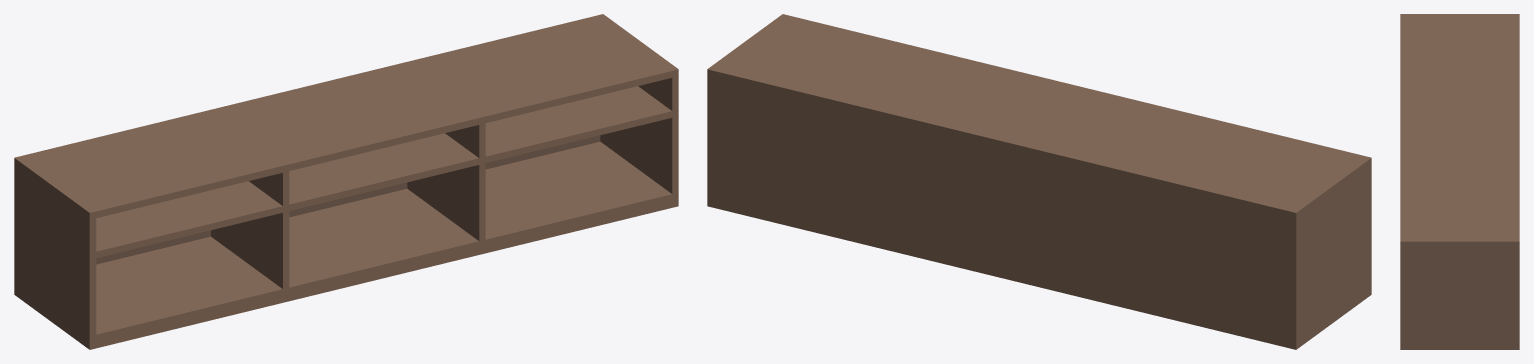
The model's file is TV_Table1_C2.fbx.
The picture shows the model from 3 angles, left to right: view 1: azimuth 30°, elevation 25°; view 2: azimuth 150°, elevation 25°; view 3: azimuth 270°, elevation 25°; orthographic projection. The views are drawn at different scales.
Visible parts, largest first — view 1: TV_Table1_C2; view 2: TV_Table1_C2; view 3: TV_Table1_C2.
Part boxes in pixels (box(x1,y1,x2,y2)): TV_Table1_C2: box(14, 14, 678, 349); TV_Table1_C2: box(707, 14, 1371, 349); TV_Table1_C2: box(1400, 14, 1519, 349).
Size of the model in its own units: 180 by 40 by 40.
